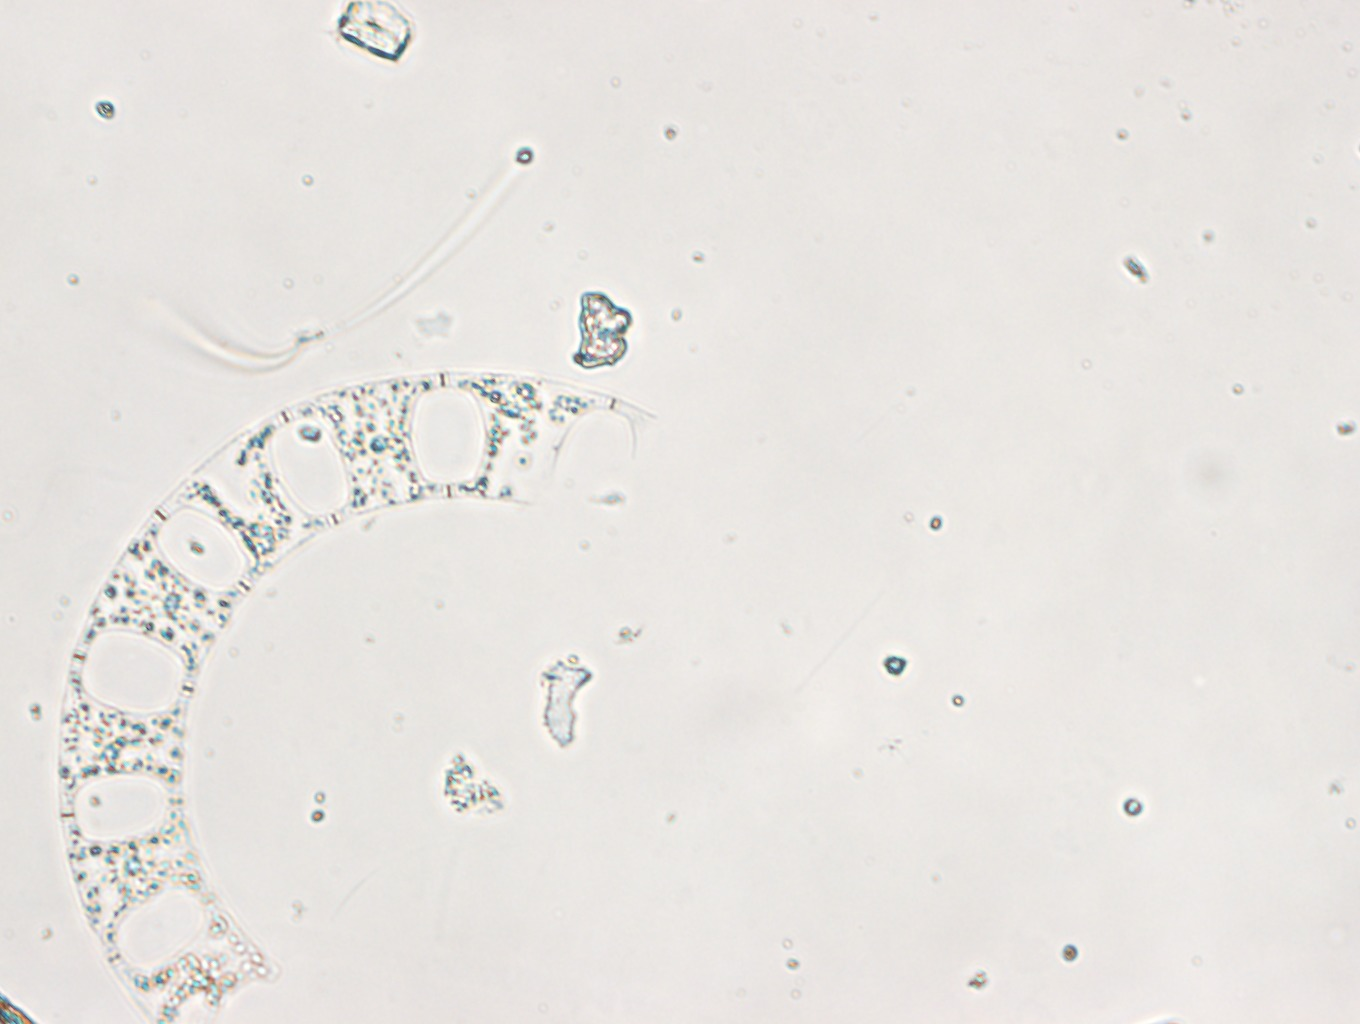eucampia: (57, 373, 660, 1024)
